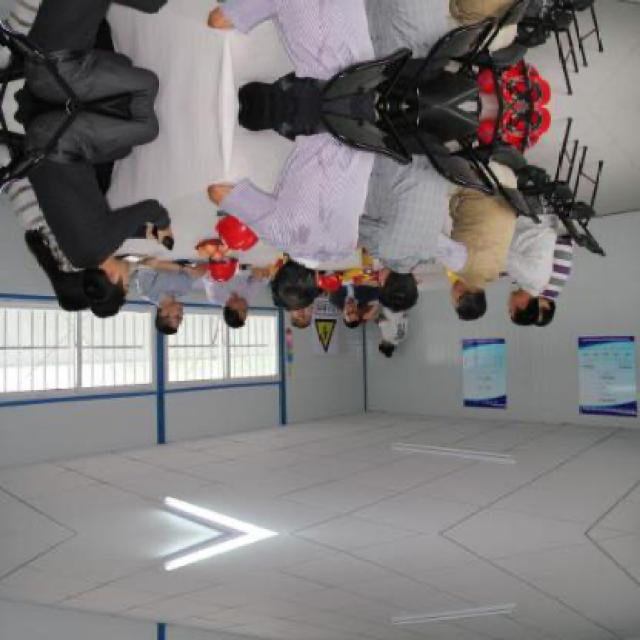sin casco: (238, 235, 339, 304), (65, 235, 144, 317), (428, 253, 514, 317), (490, 277, 564, 350), (355, 246, 443, 302), (134, 292, 204, 340), (230, 278, 282, 335), (478, 271, 541, 317), (286, 293, 339, 333)
